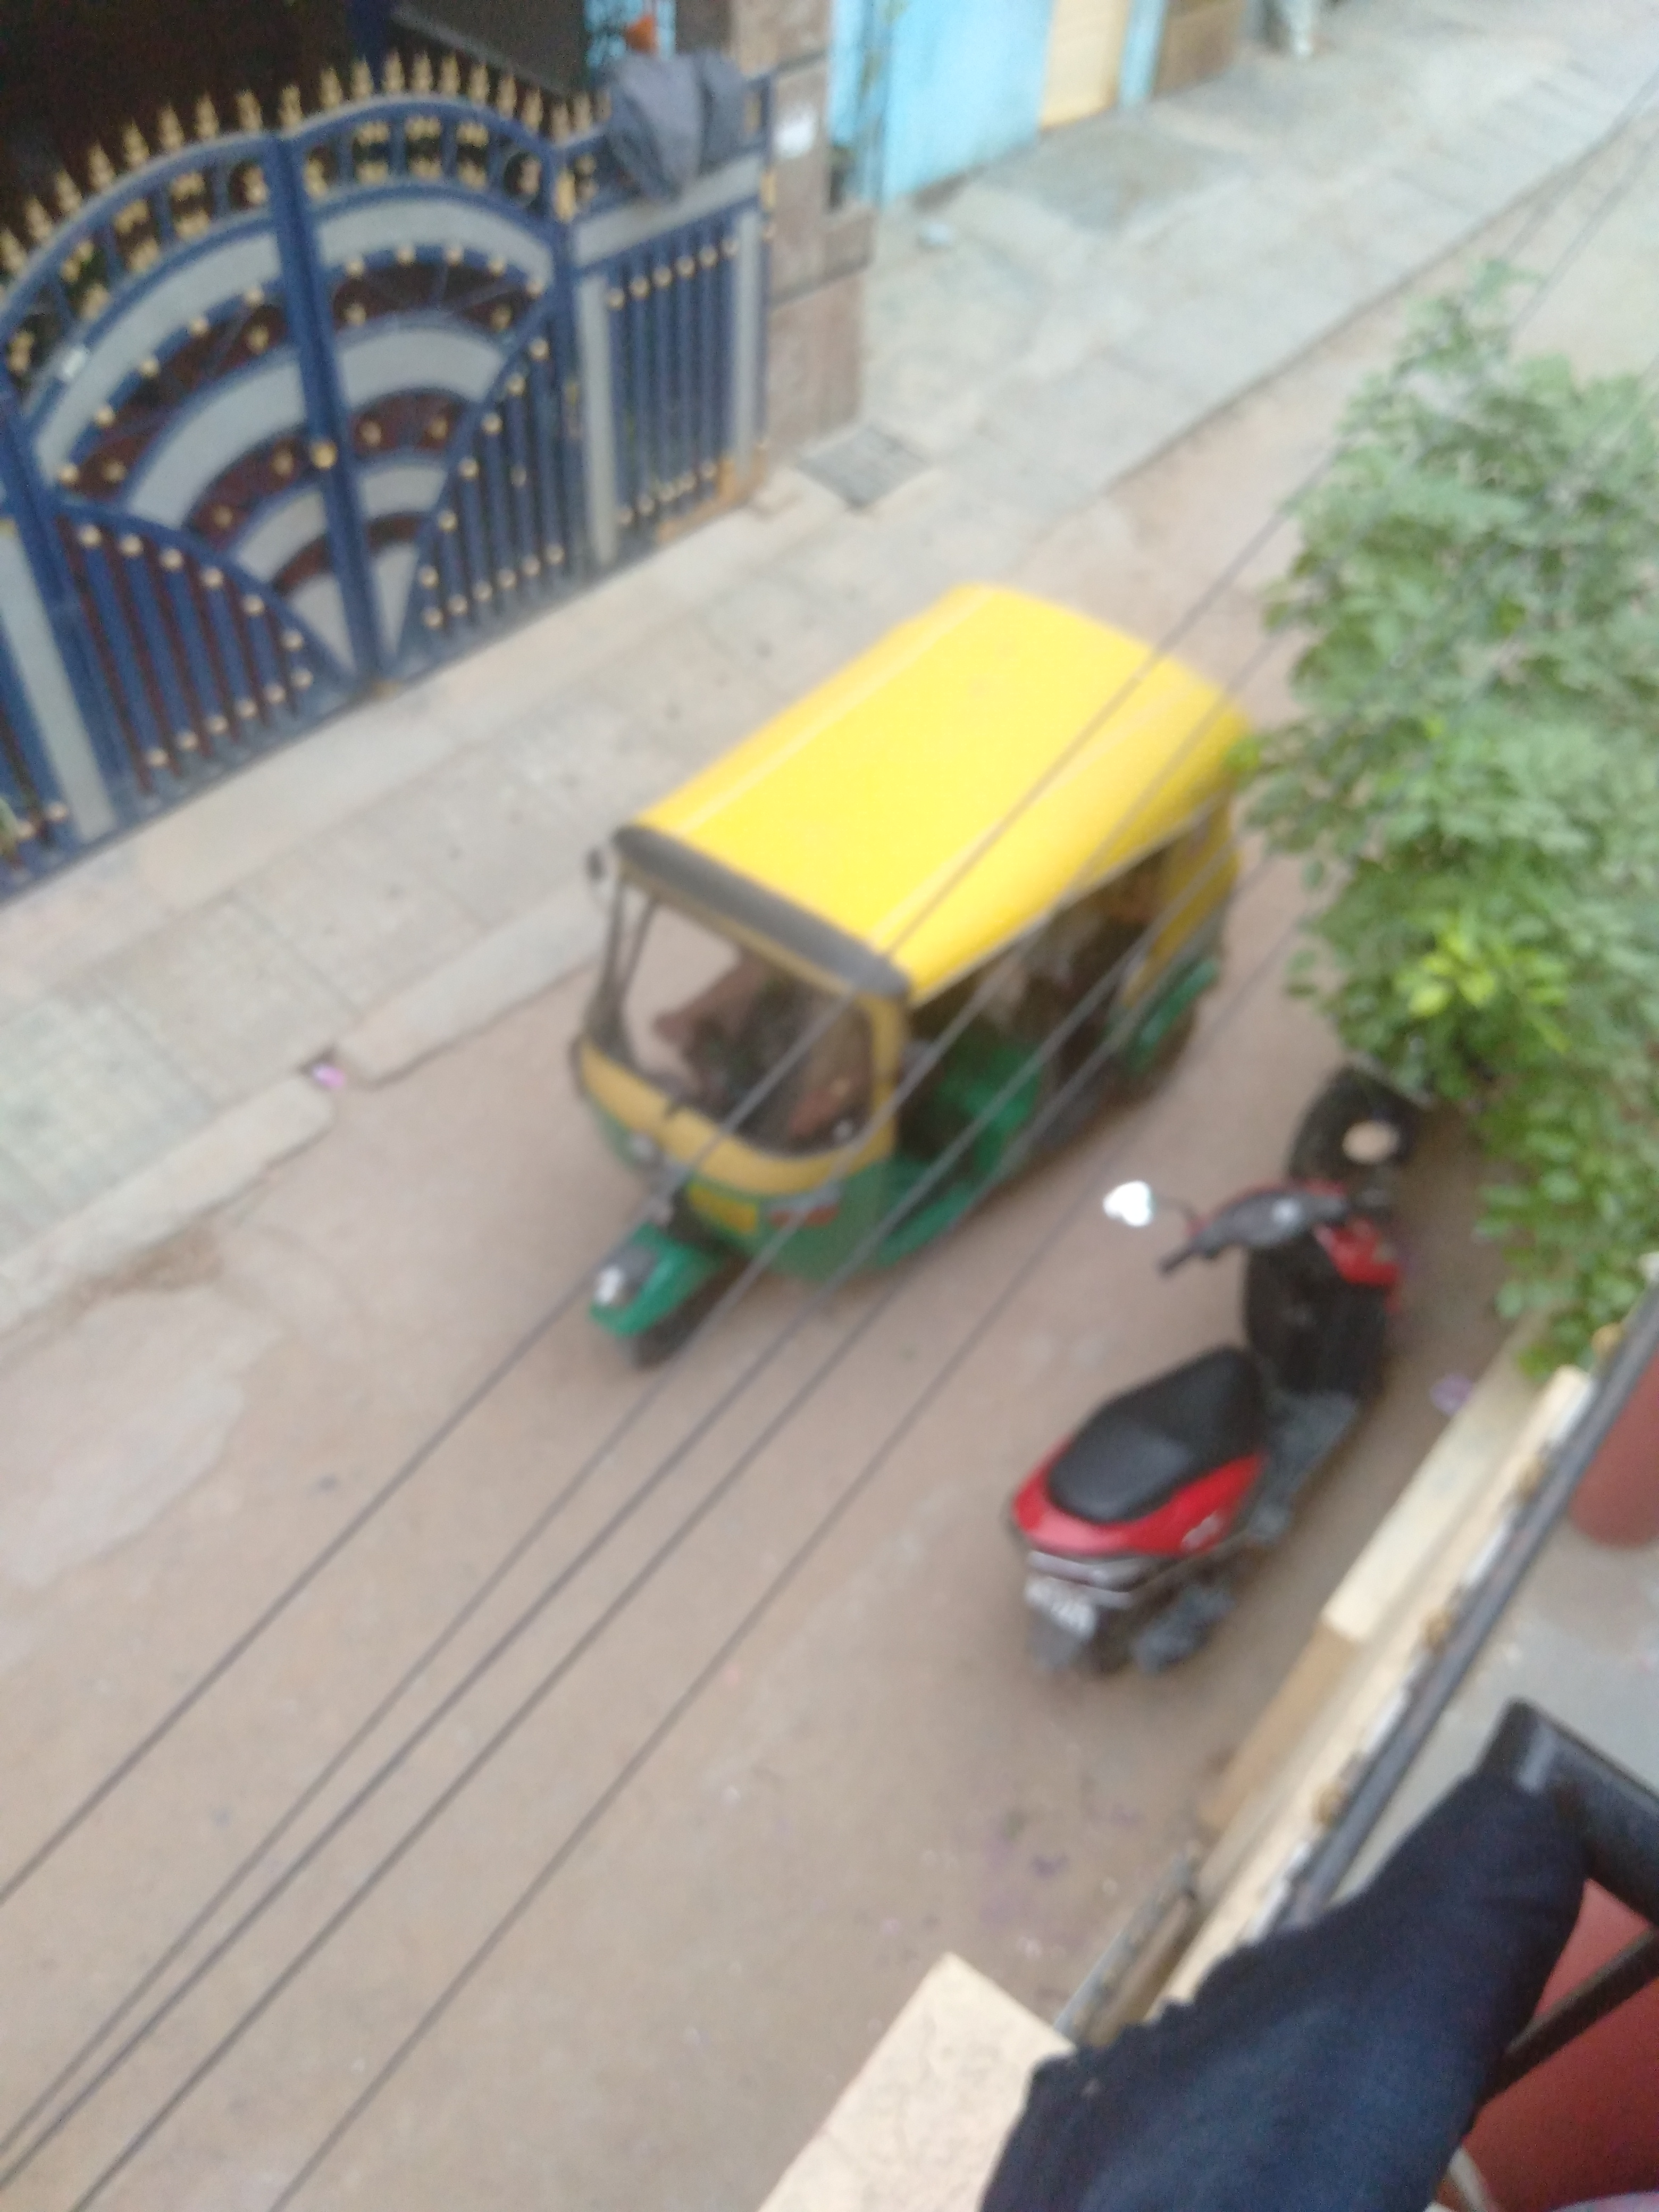auto: (561, 577, 1236, 1355)
two_wheelers: (1000, 1115, 1403, 1672)
